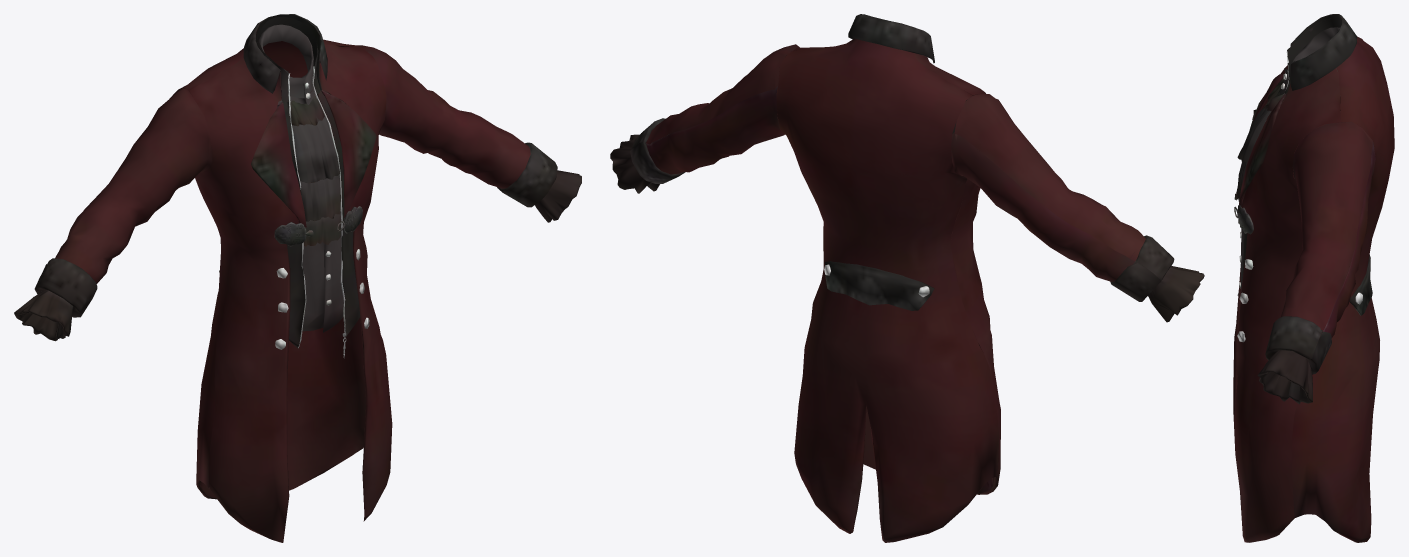
Rendered from ropa_victorian_vampire.glb.
3 views of the same model, side by side, from view 1: azimuth 30°, elevation 25°; view 2: azimuth 150°, elevation 25°; view 3: azimuth 270°, elevation 25° (orthographic). The views are drawn at different scales.
Parts seen in each view (by area): view 1: defaultMaterial; view 2: defaultMaterial; view 3: defaultMaterial.
Boxes of the visible parts, x1=… form: defaultMaterial: x1=14, y1=14, x2=581, y2=542; defaultMaterial: x1=610, y1=14, x2=1204, y2=542; defaultMaterial: x1=1233, y1=14, x2=1394, y2=542.
Bounding box in the file's own units: 1.55 × 1.3 × 0.3739.
1 material, 1 textured.
